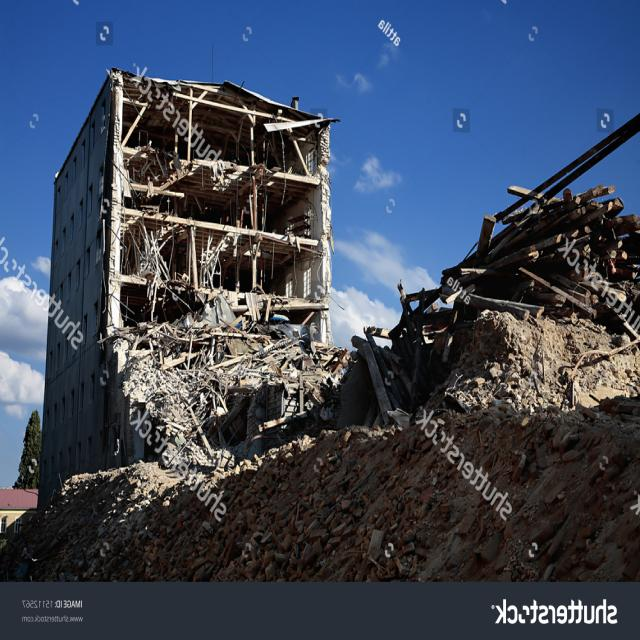Destroyed_building: (0, 4, 636, 581)
